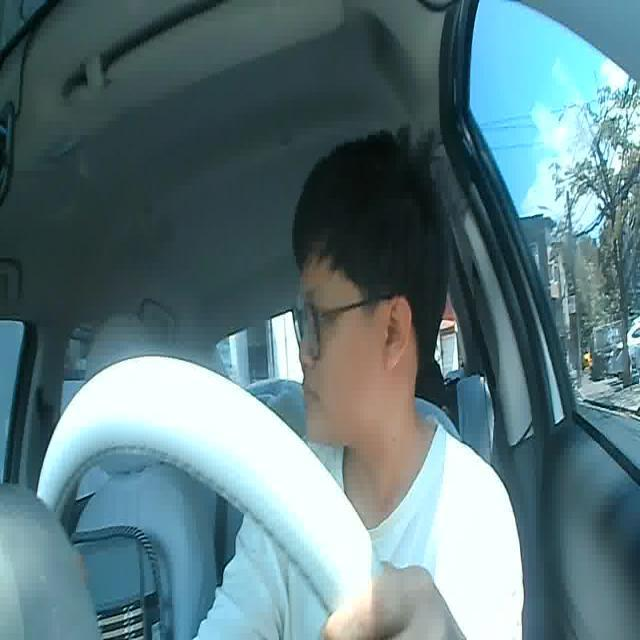Eye-Open: (304, 309, 326, 326)
Inattentive: (291, 135, 452, 443)
Normal: (302, 382, 320, 407)
